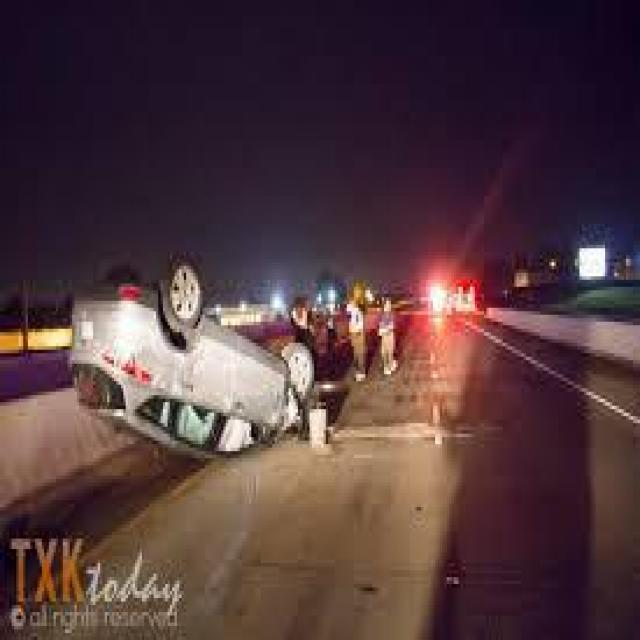accident: (63, 262, 323, 465)
